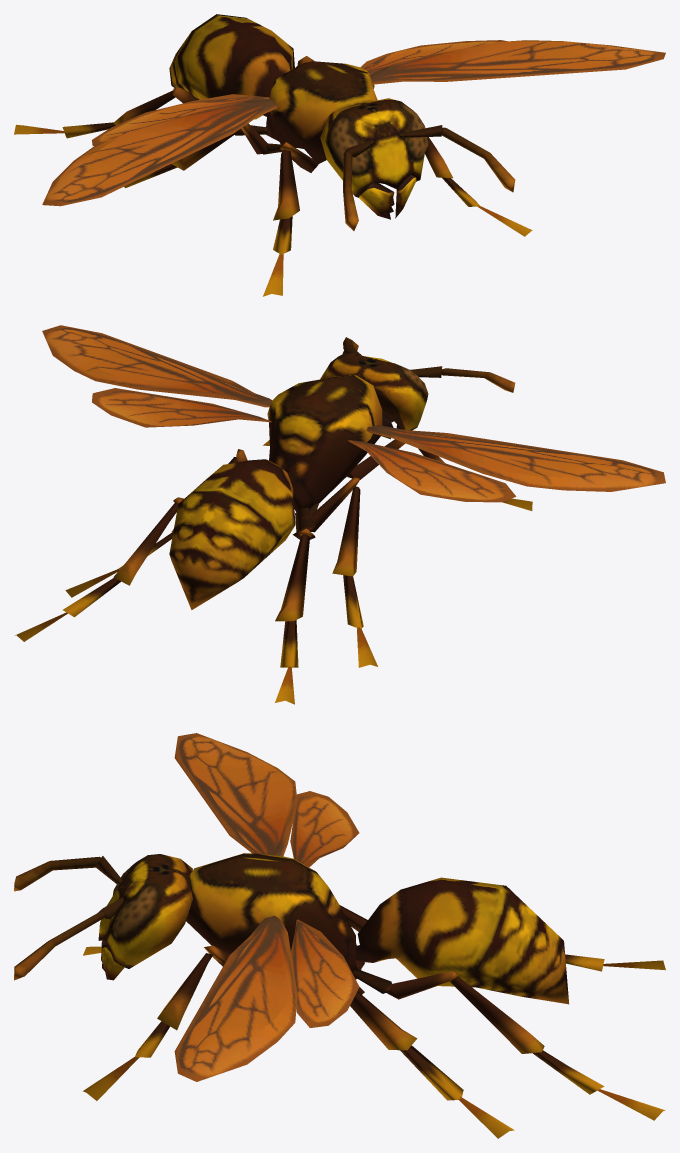
Rendered from enemy-wasp.glb.
3 renders of one model, top to bottom at view 1: azimuth 30°, elevation 25°; view 2: azimuth 150°, elevation 25°; view 3: azimuth 270°, elevation 25°, orthographic. The views are drawn at different scales.
Visible parts, largest first — view 1: InsectKamakiri_InsectSeminonukegara_pCube28__mHachi-mesh, InsectMinminzemi_body101__mWing-mesh; view 2: InsectKamakiri_InsectSeminonukegara_pCube28__mHachi-mesh, InsectMinminzemi_body101__mWing-mesh; view 3: InsectKamakiri_InsectSeminonukegara_pCube28__mHachi-mesh, InsectMinminzemi_body101__mWing-mesh.
Part boxes in pixels (x1,y1,x2,y2): InsectKamakiri_InsectSeminonukegara_pCube28__mHachi-mesh: (14,14,532,296); InsectMinminzemi_body101__mWing-mesh: (42,40,665,206); InsectKamakiri_InsectSeminonukegara_pCube28__mHachi-mesh: (15,337,532,704); InsectMinminzemi_body101__mWing-mesh: (42,325,665,502); InsectKamakiri_InsectSeminonukegara_pCube28__mHachi-mesh: (14,853,665,1138); InsectMinminzemi_body101__mWing-mesh: (174,733,359,1081).
Size of the model in its own units: 3.98 by 1.02 by 3.14.
2 materials, 2 textured.
